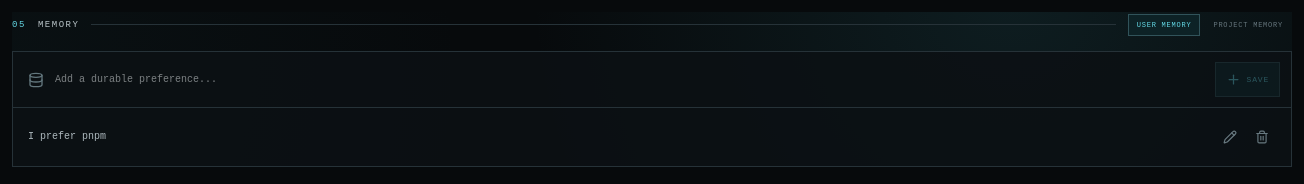
Scenario: MemoryPanel › edits a memory
Expected: the text "I prefer pnpm" is shown, [28,129,106,145]
Click the button named "Edit memory" at (1230, 137), box [1216,123,1244,151]
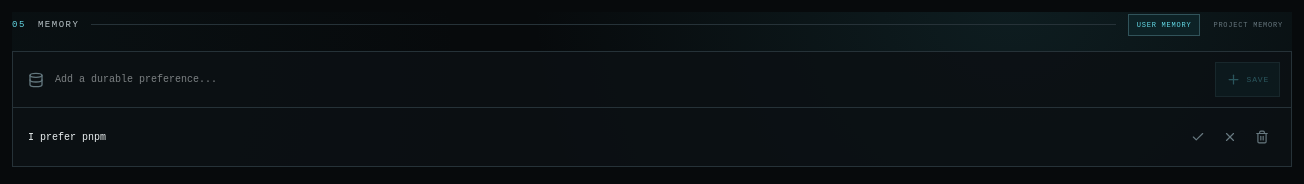
Replace the text in the field named "Edit memory" with "I prefer yarn" at (598, 137), box [28,122,1169,152]
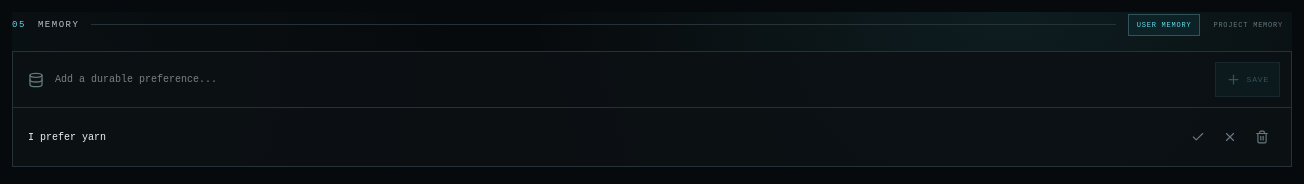
Click the button named "Save memory edit" at (1198, 137), box [1184,123,1212,151]
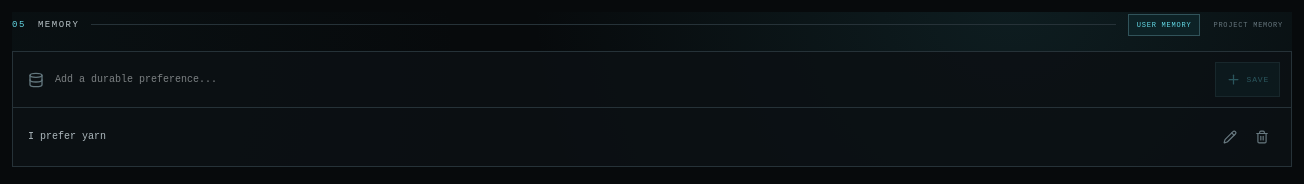
Expected: the text "I prefer yarn" is shown, [28,129,106,145]
